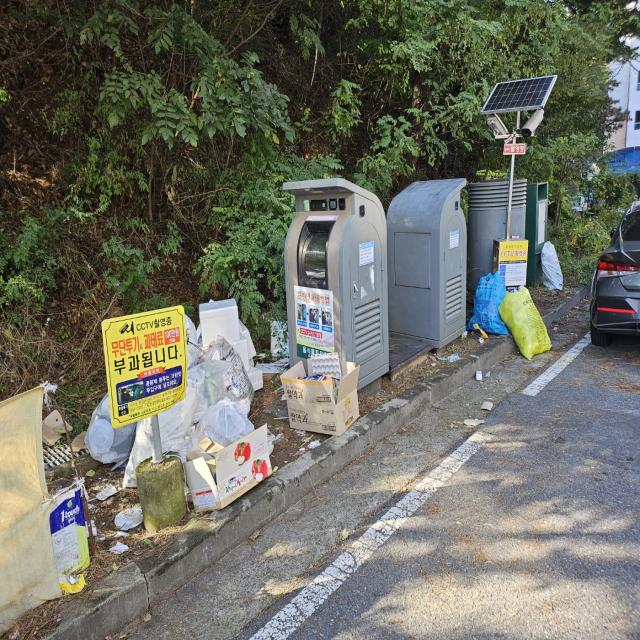CleanNet: (279, 172, 392, 402), (390, 166, 472, 352)
General Waste: (104, 296, 280, 476), (272, 344, 370, 444), (159, 443, 288, 508), (35, 491, 99, 598), (191, 299, 259, 372), (505, 280, 554, 370), (182, 403, 262, 457), (468, 261, 506, 338), (540, 241, 568, 294)
